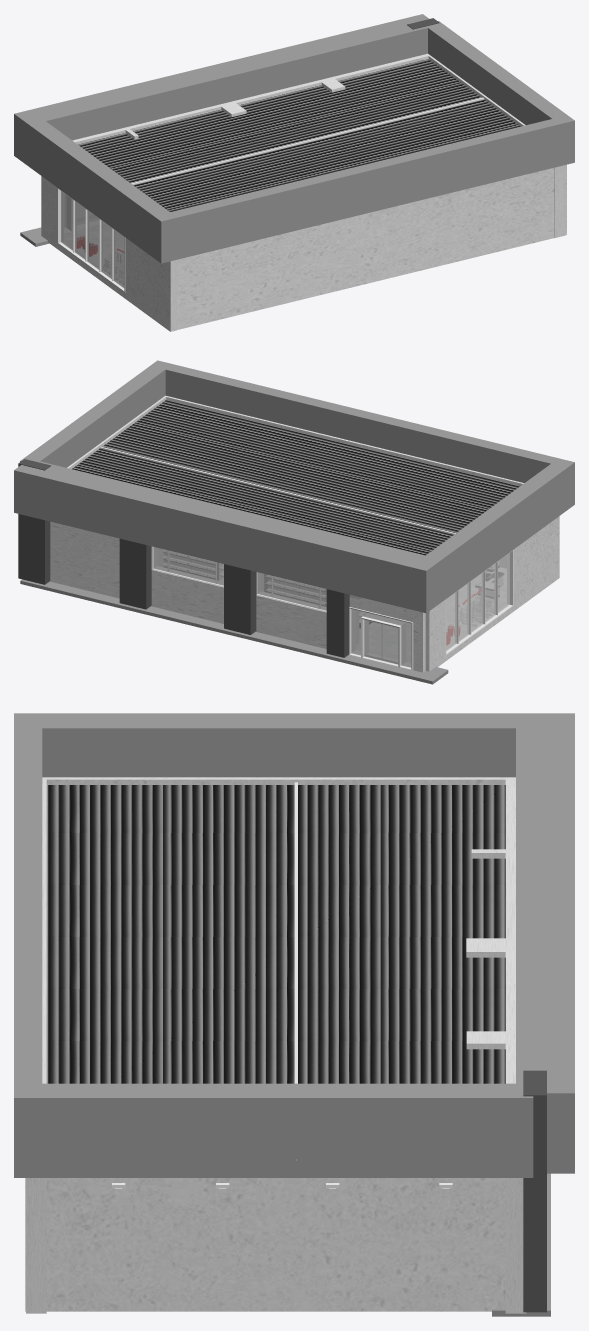
Rendered from supermarket.opt.glb.
The picture shows the model from 3 angles, top to bottom: view 1: azimuth 30°, elevation 25°; view 2: azimuth 150°, elevation 25°; view 3: azimuth 270°, elevation 25°; orthographic projection. The views are drawn at different scales.
Visible parts, largest first — view 1: Env_Material.052, Env_Material.014, Env_Material.001, Env_material_0, Env_material_7, Env_Material, Env_material_5; view 2: Env_Material.052, Env_Material.001, Env_Material.014, Env_material_7, Env_Material.051, Env_material_0, Env_Material, Env_material_5; view 3: Env_Material.001, Env_Material.052, Env_Material.014, Env_Material.051, Env_material_0.
Part boxes in pixels (x1=…): Env_Material.052: x1=14, y1=14, x2=574, y2=263; Env_Material.014: x1=41, y1=53, x2=566, y2=331; Env_Material.001: x1=78, y1=59, x2=520, y2=211; Env_material_0: x1=57, y1=97, x2=484, y2=292; Env_material_7: x1=61, y1=191, x2=124, y2=287; Env_Material: x1=64, y1=224, x2=123, y2=283; Env_material_5: x1=69, y1=244, x2=123, y2=283; Env_Material.052: x1=14, y1=360, x2=574, y2=684; Env_Material.001: x1=72, y1=400, x2=519, y2=555; Env_Material.014: x1=50, y1=395, x2=559, y2=672; Env_material_7: x1=153, y1=547, x2=509, y2=667; Env_Material.051: x1=18, y1=459, x2=349, y2=657; Env_material_0: x1=99, y1=446, x2=513, y2=670; Env_Material: x1=356, y1=567, x2=506, y2=662; Env_material_5: x1=446, y1=596, x2=493, y2=648; Env_Material.001: x1=46, y1=785, x2=505, y2=1083; Env_Material.052: x1=14, y1=713, x2=574, y2=1316; Env_Material.014: x1=25, y1=777, x2=526, y2=1313; Env_Material.051: x1=523, y1=1070, x2=546, y2=1312; Env_material_0: x1=112, y1=782, x2=452, y2=1188.
Size of the model in its own units: 29.47 by 8.01 by 18.14.
19 materials, 6 textured.
